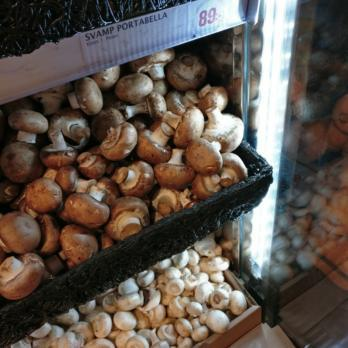Mushroom: (42, 96, 111, 247), (167, 52, 239, 190), (0, 107, 45, 301), (111, 70, 171, 213)
